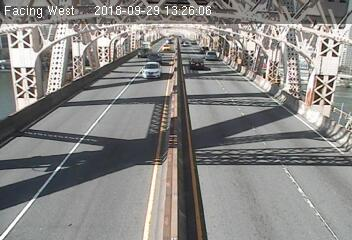car: (144, 59, 163, 80), (136, 39, 152, 59), (188, 58, 205, 69), (202, 50, 219, 61), (160, 44, 172, 50)
